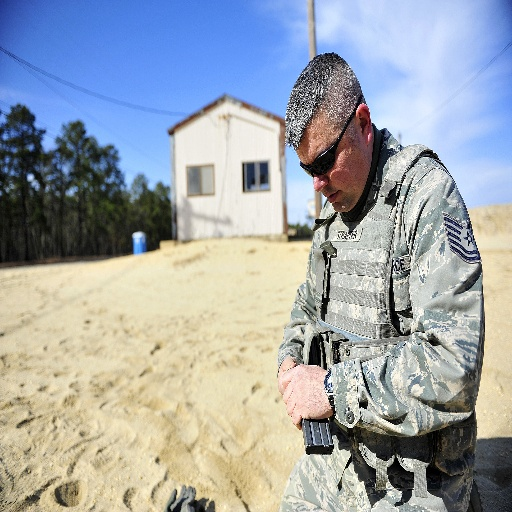hand: (281, 362, 332, 431), (275, 356, 297, 394)
